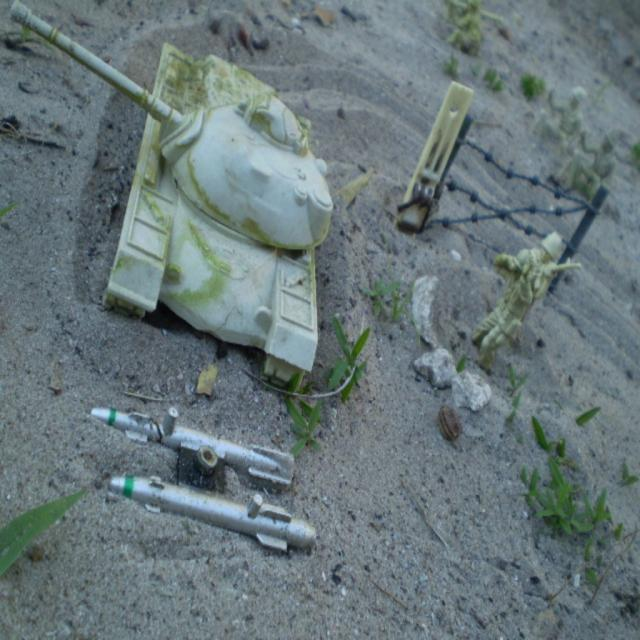tank: (11, 0, 333, 390)
